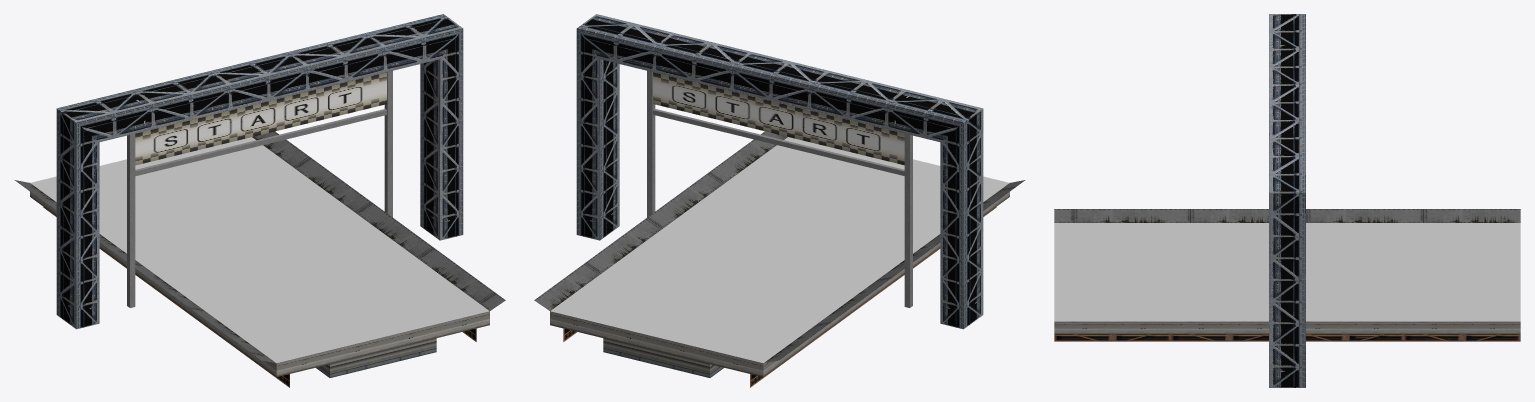
Rendered from Start.fbx.
3 renders of one model, left to right at view 1: azimuth 30°, elevation 25°; view 2: azimuth 150°, elevation 25°; view 3: azimuth 270°, elevation 25°, orthographic. The views are drawn at different scales.
Visible parts, largest first — view 1: Empty_Mesh; view 2: Empty_Mesh; view 3: Empty_Mesh.
Boxes of the visible parts, x1,y1,x2,y2 form: Empty_Mesh: [14, 14, 505, 387]; Empty_Mesh: [534, 14, 1025, 387]; Empty_Mesh: [1054, 14, 1520, 387].
Size of the model in its own units: 29 by 14.8 by 32.
